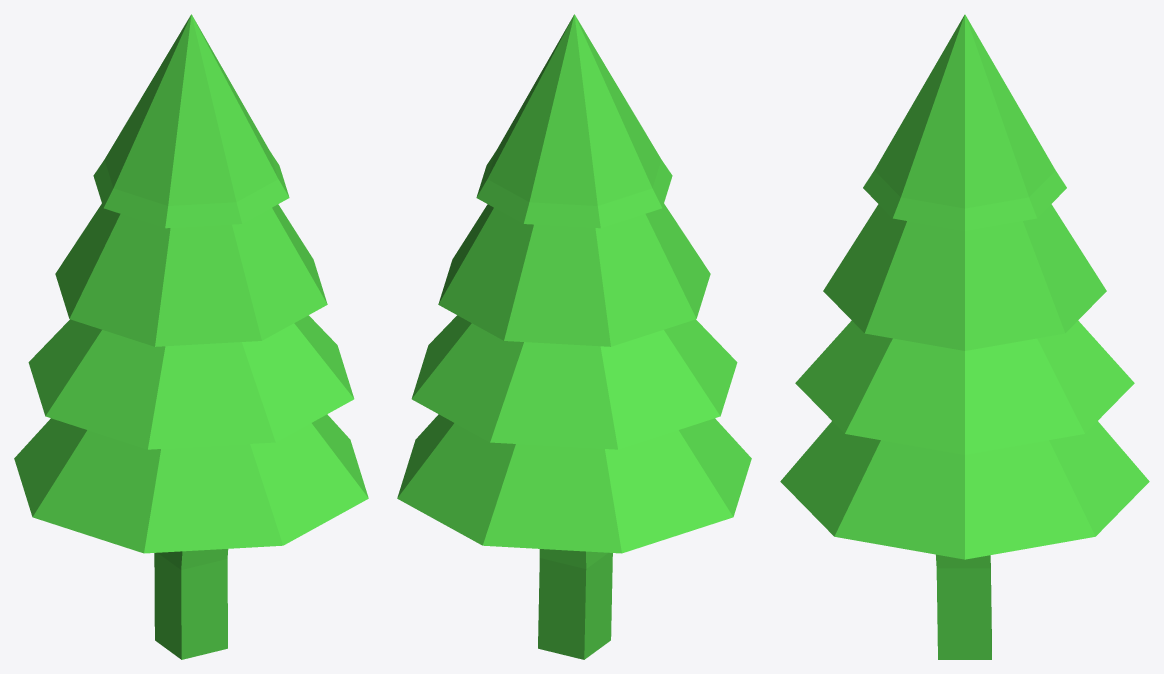
File: Tree.fbx
3 views of the same model, side by side, from view 1: azimuth 30°, elevation 25°; view 2: azimuth 150°, elevation 25°; view 3: azimuth 270°, elevation 25° (orthographic).
Visible parts, largest first — view 1: Tree; view 2: Tree; view 3: Tree.
Boxes of the visible parts, x1,y1,x2,y2 form: Tree: [14, 14, 368, 659]; Tree: [397, 14, 751, 659]; Tree: [780, 14, 1149, 659].
Bounding box in the file's own units: 613 × 1160 × 613.
